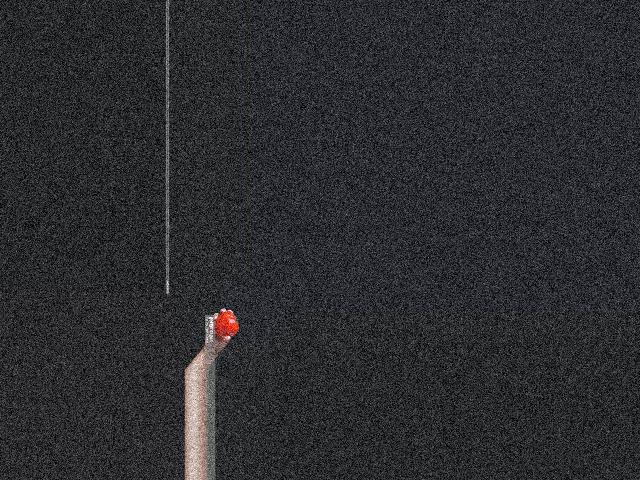tomato: (214, 311, 239, 336)
